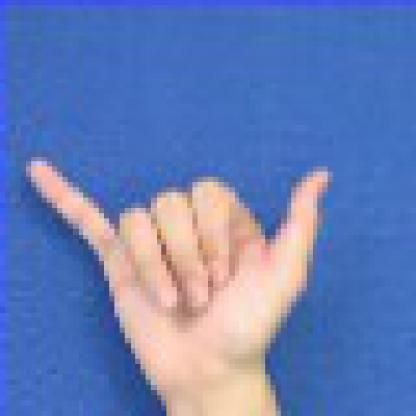six: (15, 125, 348, 411)
